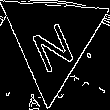N_NW: (26, 8, 79, 71)
